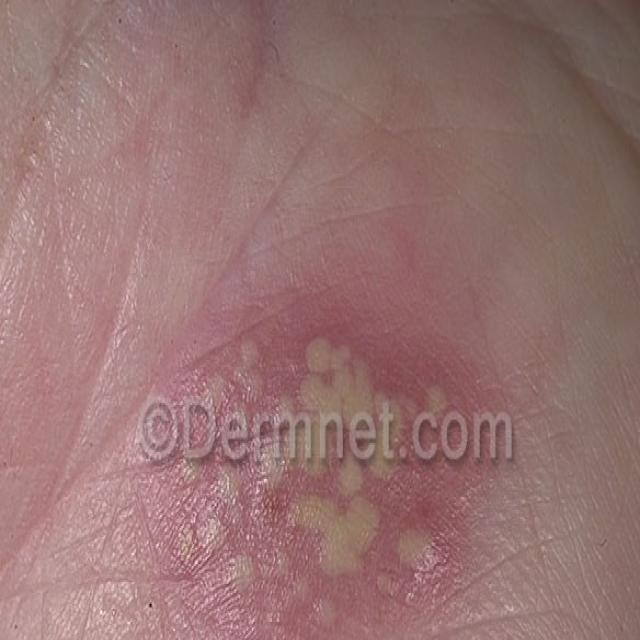Viral Infections: (162, 285, 495, 640)
